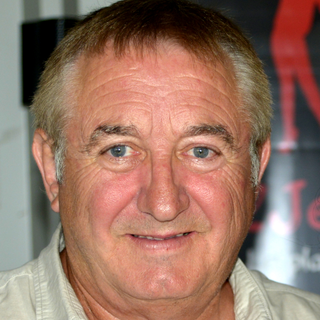eye: (179, 141, 225, 165), (96, 140, 142, 164)
